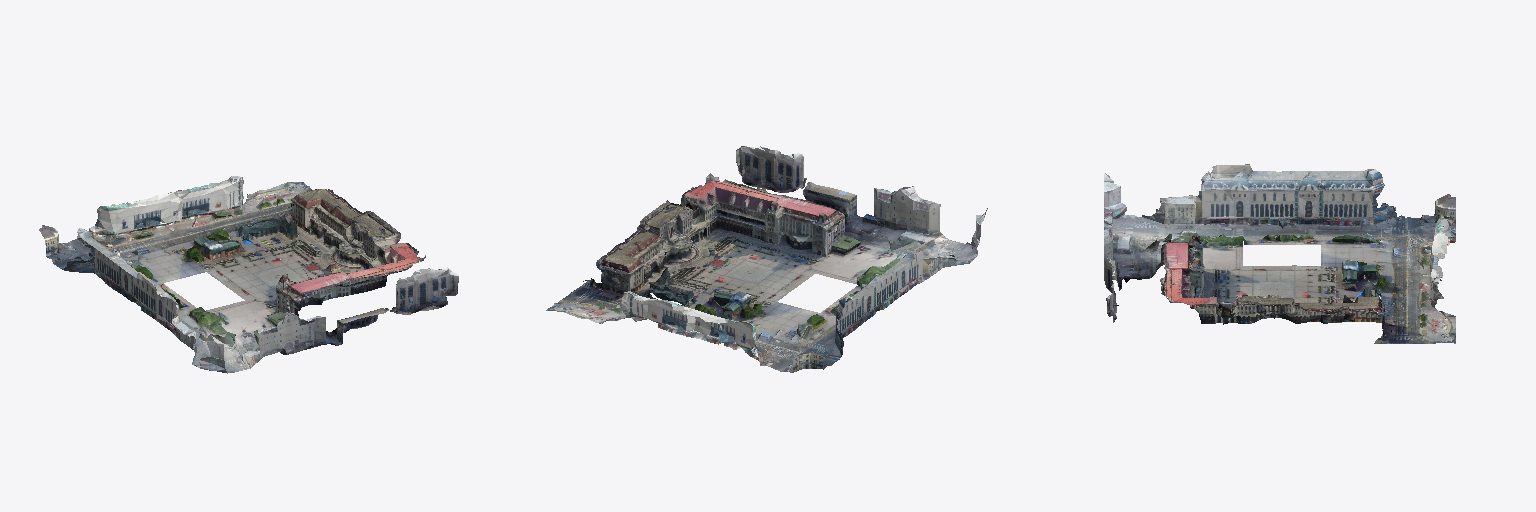
3 views of the same model, side by side, from view 1: azimuth 30°, elevation 25°; view 2: azimuth 150°, elevation 25°; view 3: azimuth 270°, elevation 25° (orthographic).
Visible parts, largest first — view 1: context_hole; view 2: context_hole; view 3: context_hole.
Part boxes in pixels (x1,y1,x2,y2): context_hole: (39,176,458,373); context_hole: (546,146,987,372); context_hole: (1104,164,1455,343).
Size of the model in its own units: 1125 by 217 by 1283.
Materials: 1 (1 with a texture image).